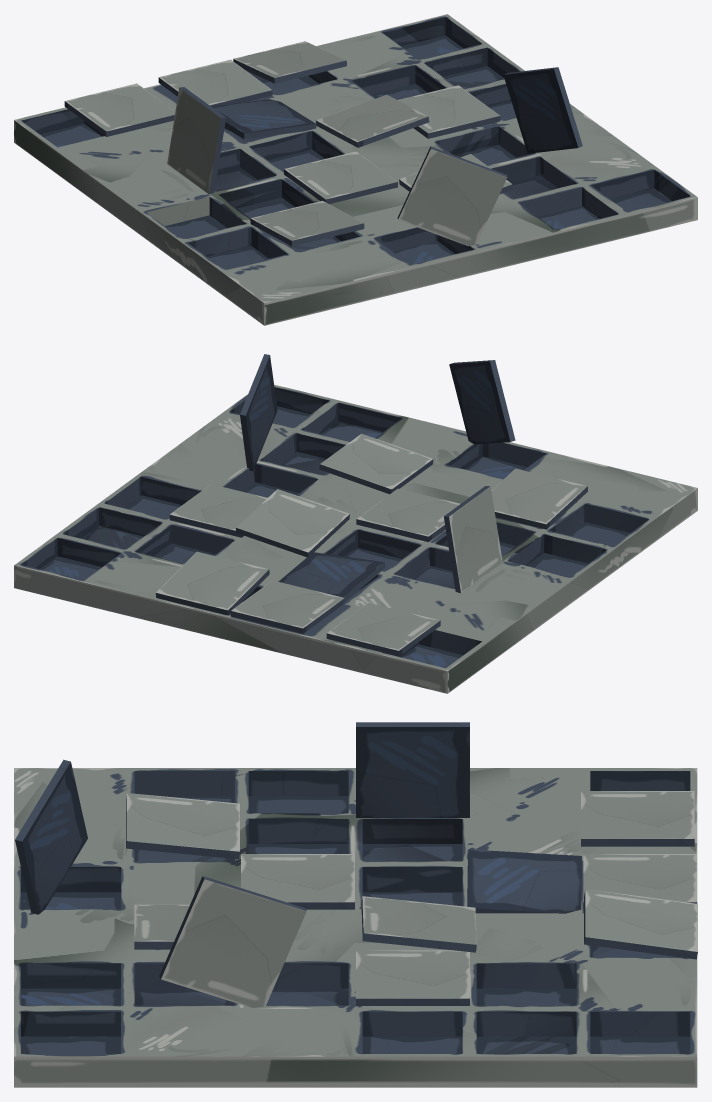
File: Ceiling_1.glb
3 renders of one model, top to bottom at view 1: azimuth 30°, elevation 25°; view 2: azimuth 150°, elevation 25°; view 3: azimuth 270°, elevation 25°, orthographic. The views are drawn at different scales.
Parts seen in each view (by area): view 1: Ceiling_1; view 2: Ceiling_1; view 3: Ceiling_1.
Boxes of the visible parts, x1=… form: Ceiling_1: x1=14, y1=14, x2=697, y2=325; Ceiling_1: x1=14, y1=354, x2=697, y2=693; Ceiling_1: x1=14, y1=722, x2=697, y2=1087.
Size of the model in its own units: 2 by 0.5238 by 2.
Materials: 1 (1 with a texture image).
